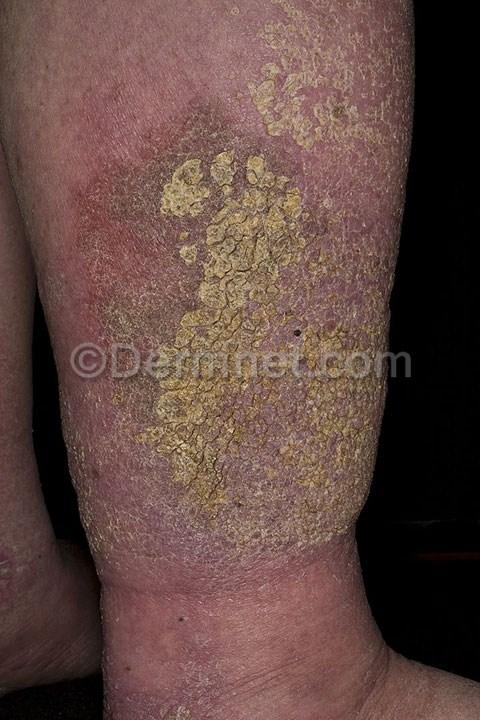Eczema: (75, 4, 400, 338), (70, 381, 387, 568)
